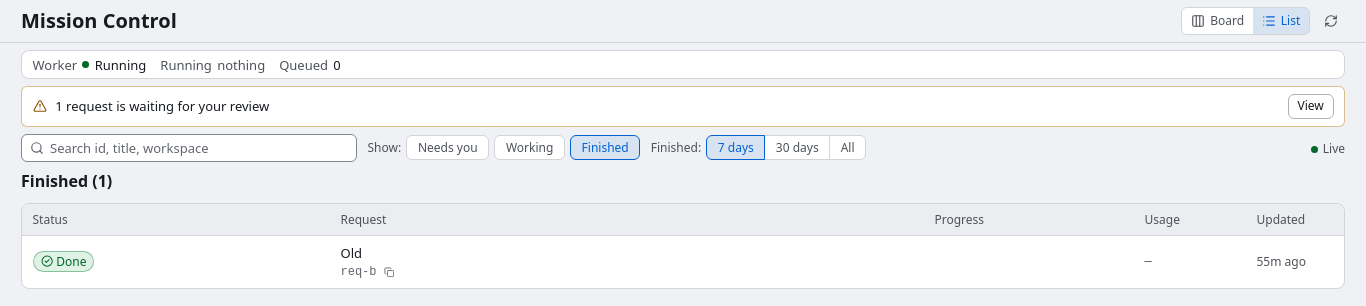
the needs-you banner appears only when a filter hides the Needs you section, and selects it
This screenshot has width=1366, height=306.
Expected: the message with test id "needs-you-banner" shows "1 request is waiting for your review", [55, 97, 269, 115]
Click the button "View" at [1311, 106], box [1288, 94, 1334, 118]
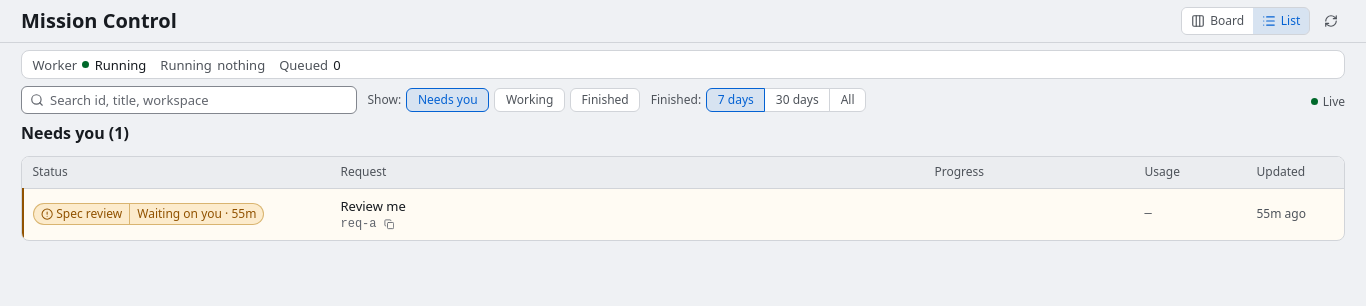
Expected: the link "Old" is gone
Expected: the message with test id "needs-you-banner" is gone
